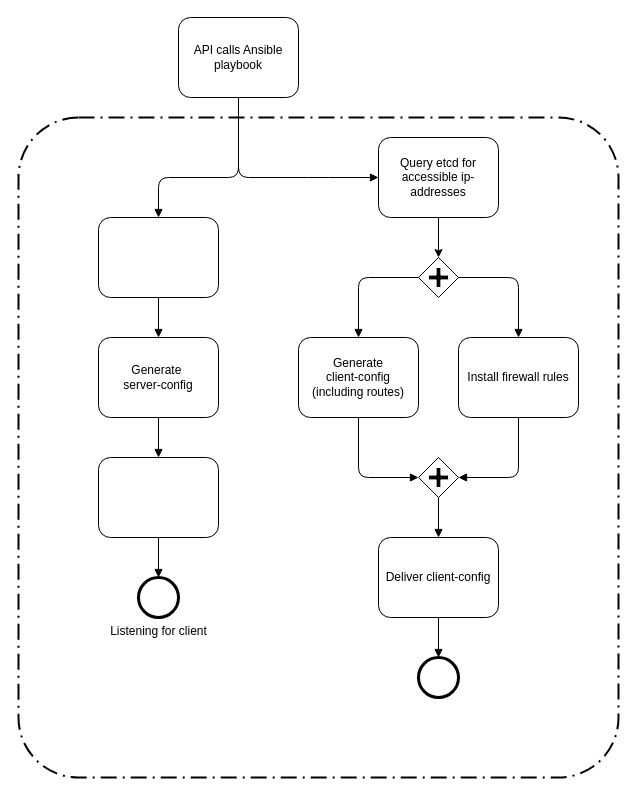
The diagram is 636 pixels wide and 796 high, and some of its shapes have lost their labels. Here are the shapes that lost their labels. From the top down, the box of each, then its label:
(98, 216, 218, 298): Find available port for running VPN
(98, 456, 218, 538): Start openVPN container
(418, 656, 458, 698): Client can start a connection
